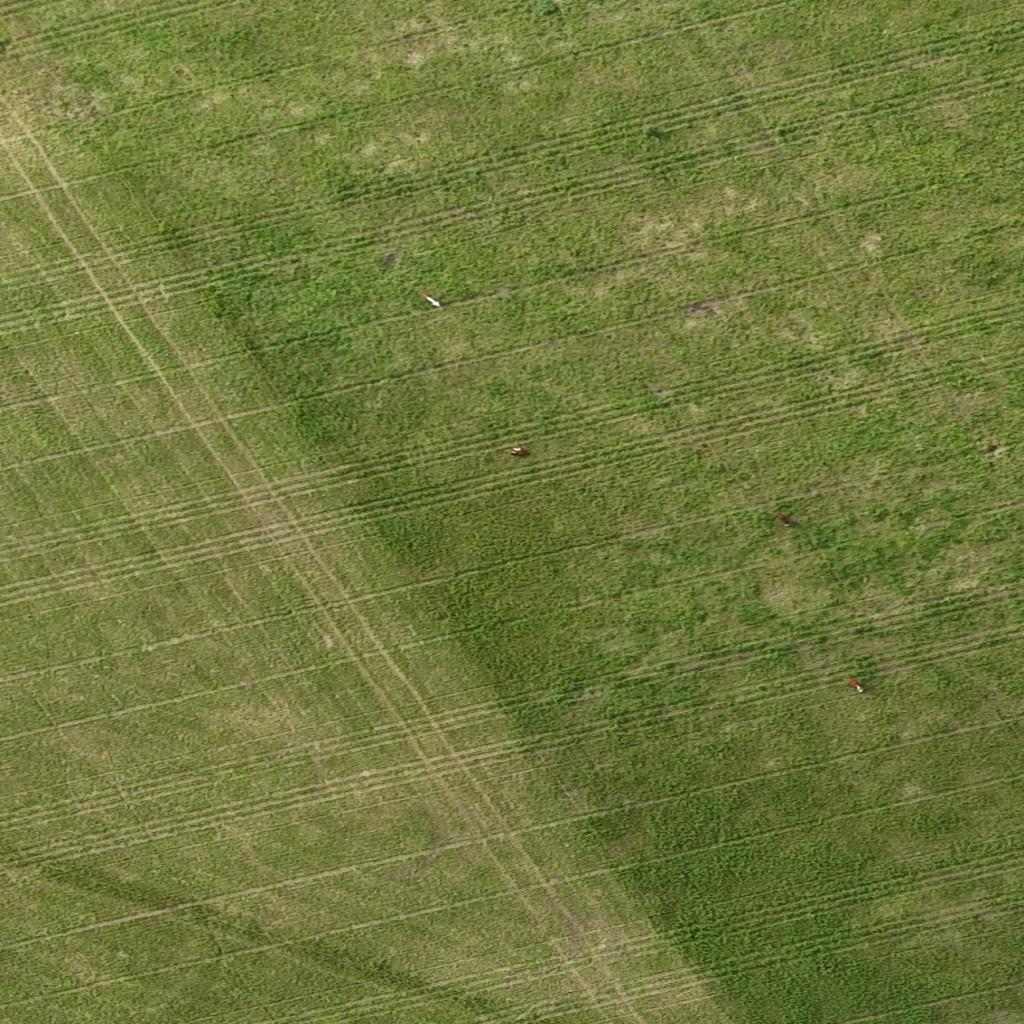cow: (417, 290, 445, 306), (847, 676, 867, 694), (506, 445, 530, 458), (772, 512, 794, 526)
